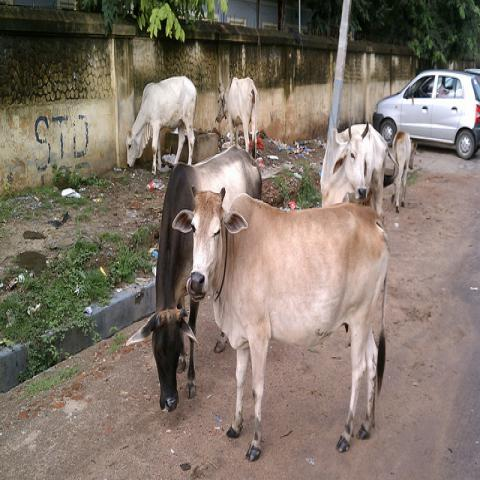car: (373, 70, 480, 156), (464, 67, 480, 75)
